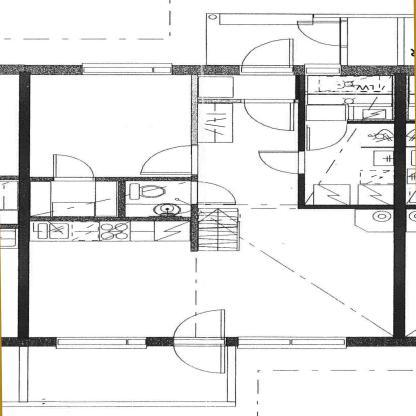door: (165, 306, 231, 376), (167, 336, 236, 377), (237, 37, 297, 78), (132, 143, 203, 177), (237, 98, 299, 134), (166, 308, 229, 343), (293, 15, 353, 48), (46, 151, 104, 184), (253, 147, 313, 175), (194, 180, 245, 205)
window: (47, 328, 151, 352), (230, 332, 354, 352), (70, 62, 178, 80), (302, 62, 353, 80)
